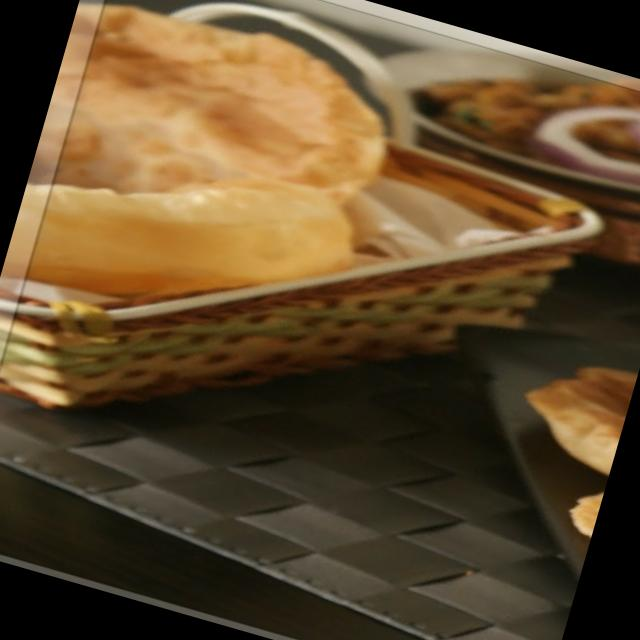Bhatura: (0, 0, 402, 366)
